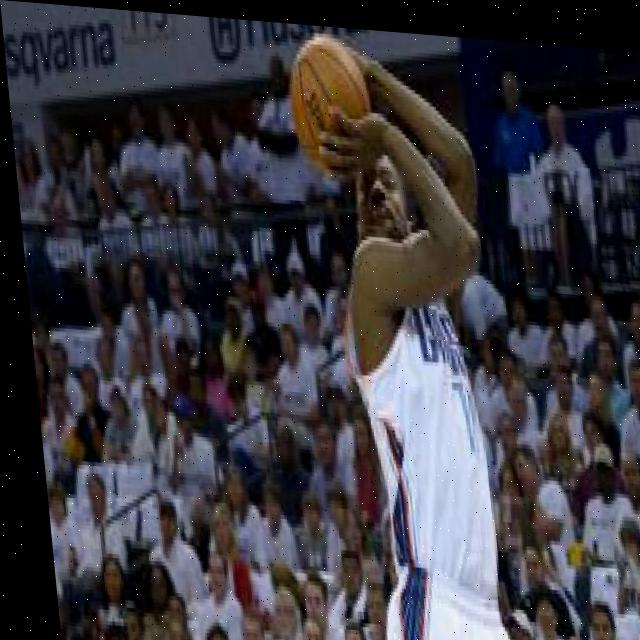Basketball: (284, 31, 376, 179)
